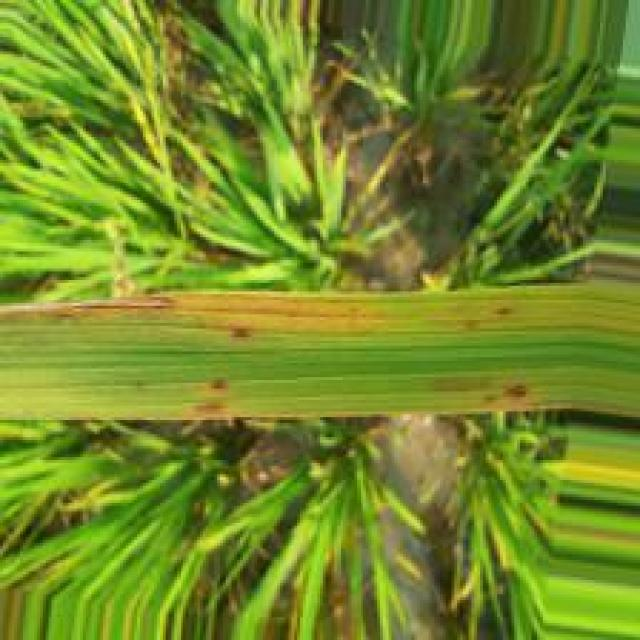Brown_Spot: (506, 378, 533, 408), (210, 373, 232, 401), (232, 319, 250, 348)
